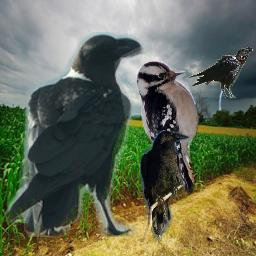Crow: (5, 32, 148, 237), (140, 130, 190, 242), (188, 47, 253, 98)
Woodpecker: (136, 61, 215, 195)
